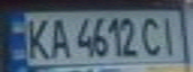1: (106, 15, 124, 58)
2: (118, 14, 139, 57)
4: (72, 15, 93, 58)
6: (90, 14, 109, 58)
A: (45, 15, 72, 60)
C: (139, 14, 166, 57)
I: (157, 14, 184, 57)
K: (21, 15, 54, 61)
